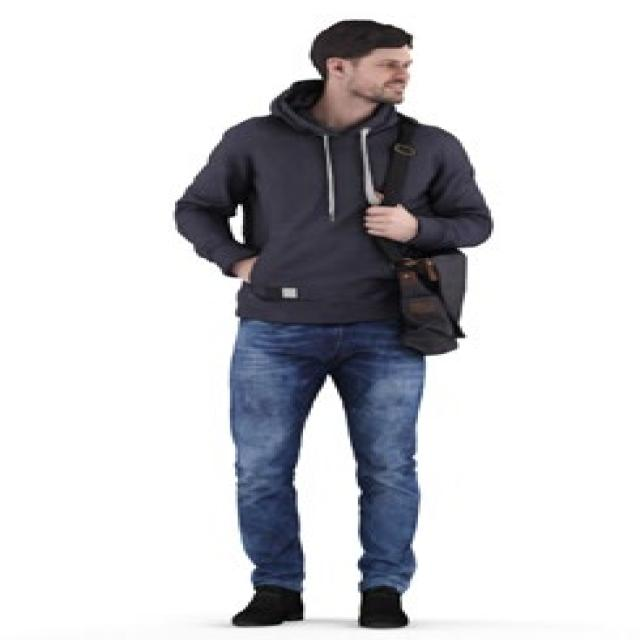standing: (168, 16, 502, 631)
